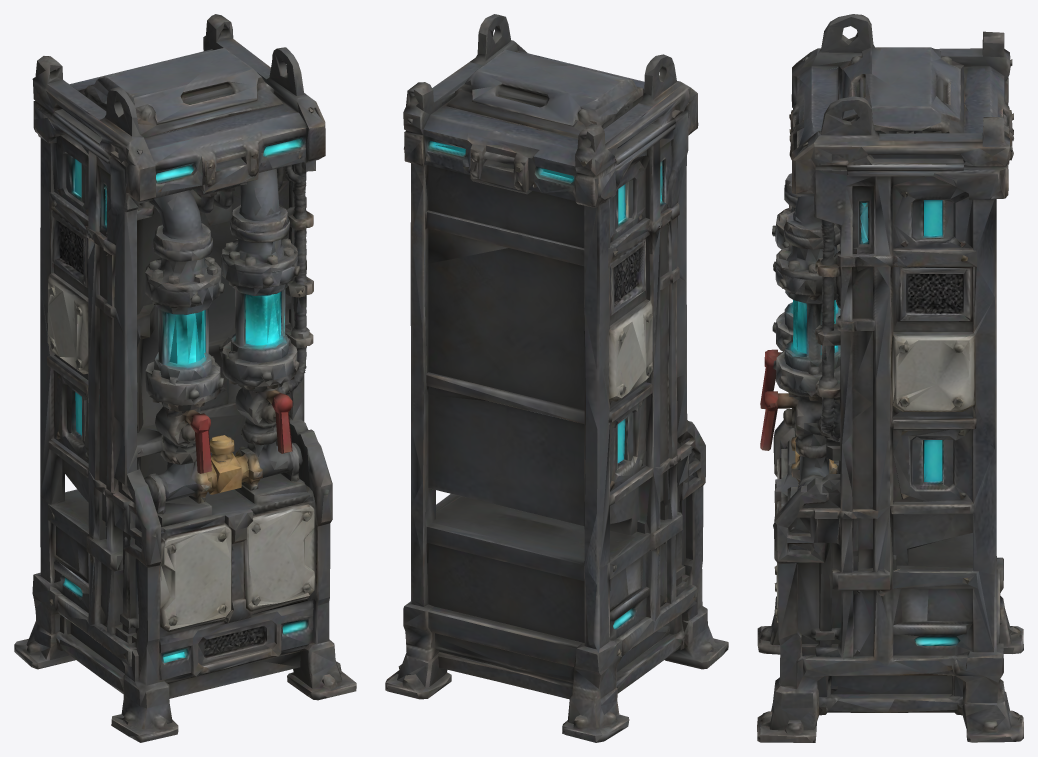
The model's file is SpecimenServiceRack.glb.
The picture shows the model from 3 angles, left to right: view 1: azimuth 30°, elevation 25°; view 2: azimuth 150°, elevation 25°; view 3: azimuth 270°, elevation 25°; orthographic projection. The views are drawn at different scales.
Parts seen in each view (by area): view 1: tripo_node_96285728-fe12-4f4a-9990-76ee87872cf6; view 2: tripo_node_96285728-fe12-4f4a-9990-76ee87872cf6; view 3: tripo_node_96285728-fe12-4f4a-9990-76ee87872cf6.
Part boxes in pixels (box(x1,y1,x2,y2)): tripo_node_96285728-fe12-4f4a-9990-76ee87872cf6: box(14, 14, 356, 742); tripo_node_96285728-fe12-4f4a-9990-76ee87872cf6: box(385, 14, 728, 742); tripo_node_96285728-fe12-4f4a-9990-76ee87872cf6: box(757, 14, 1023, 742).
Bounding box in the file's own units: 0.3723 × 0.9785 × 0.3748.
1 material, 1 textured.
